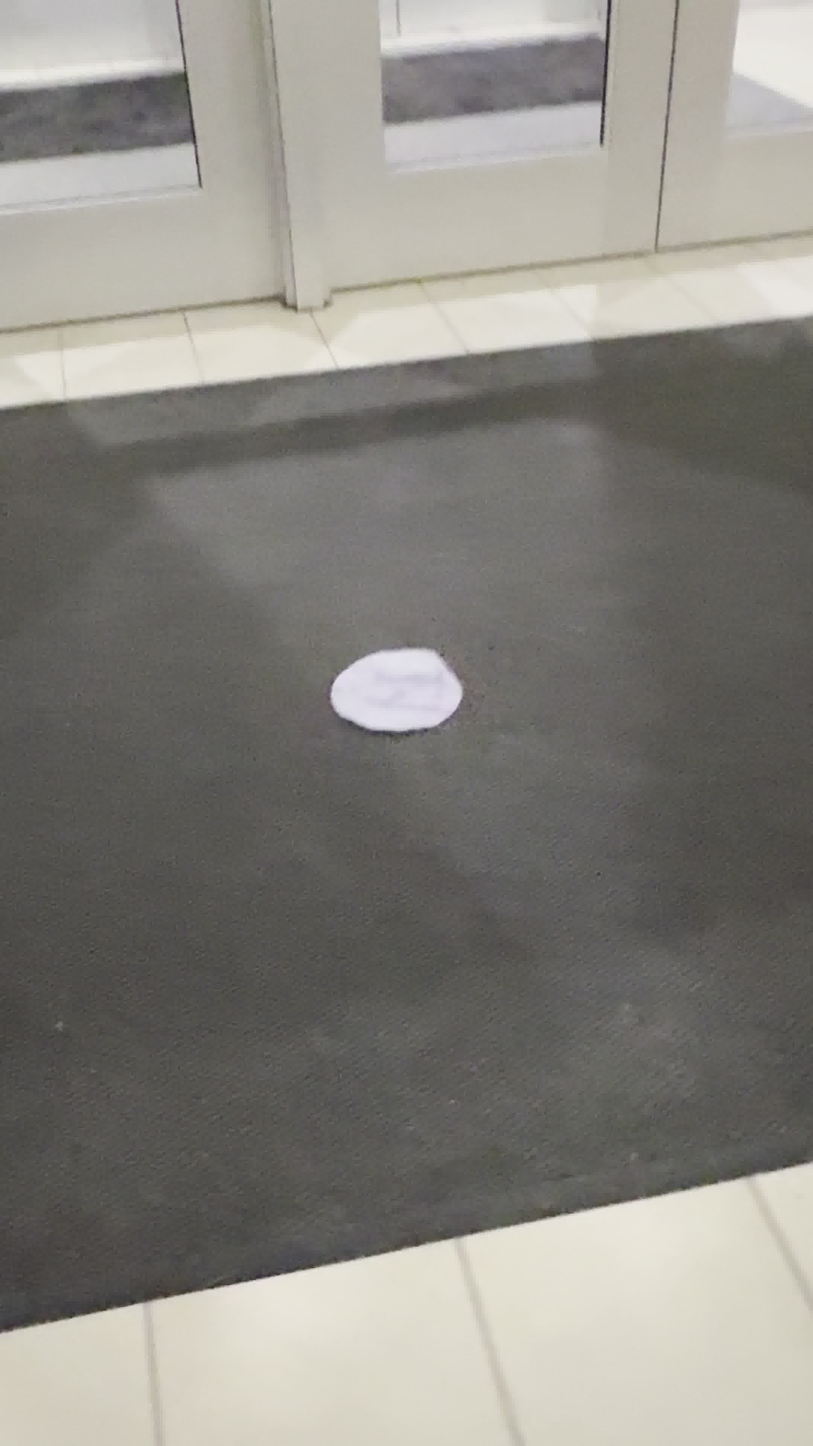Target: (330, 648, 462, 733)
